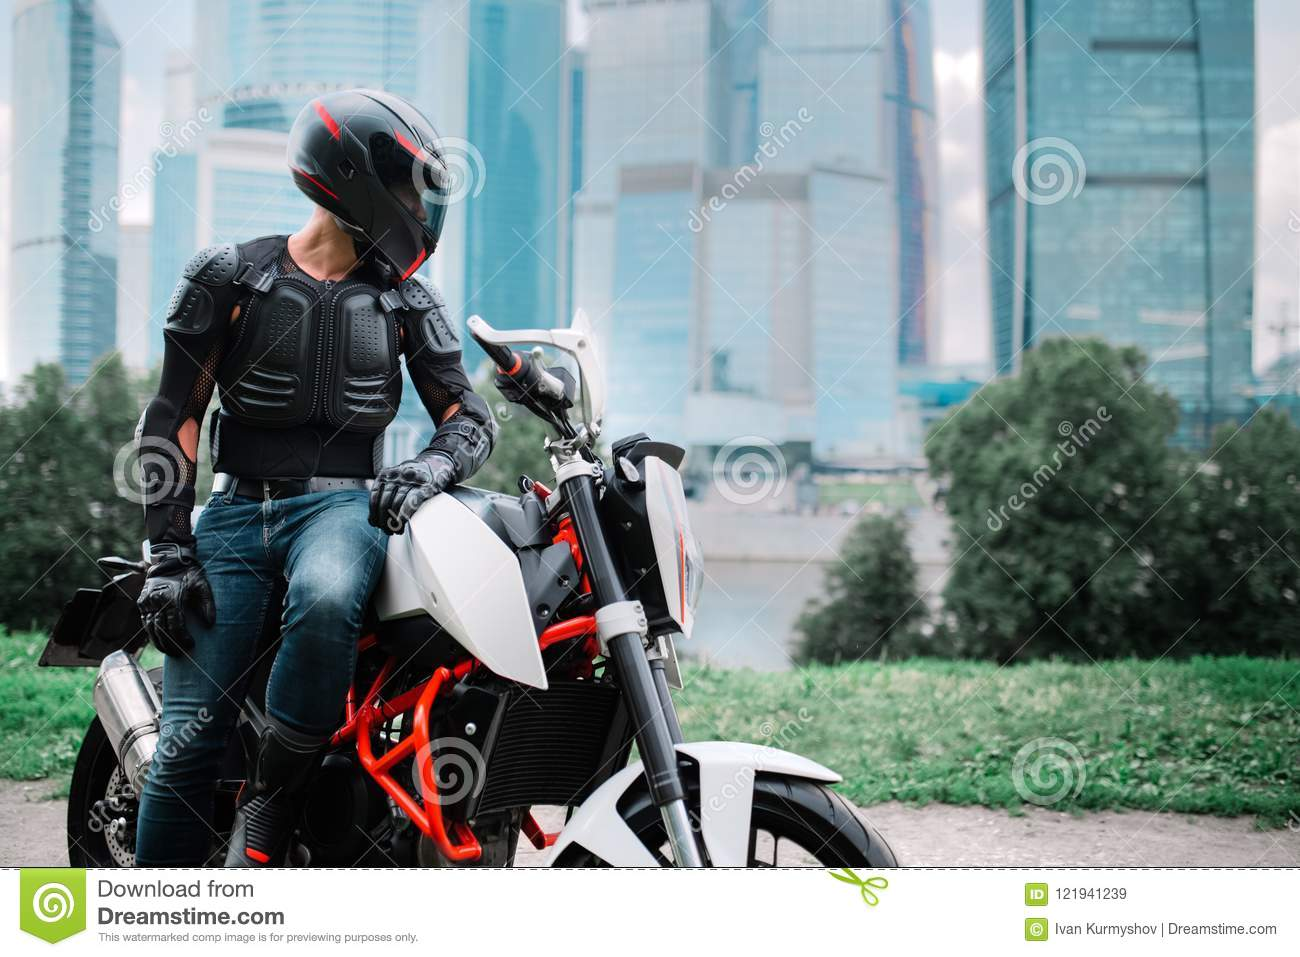helmet: (298, 82, 459, 263)
